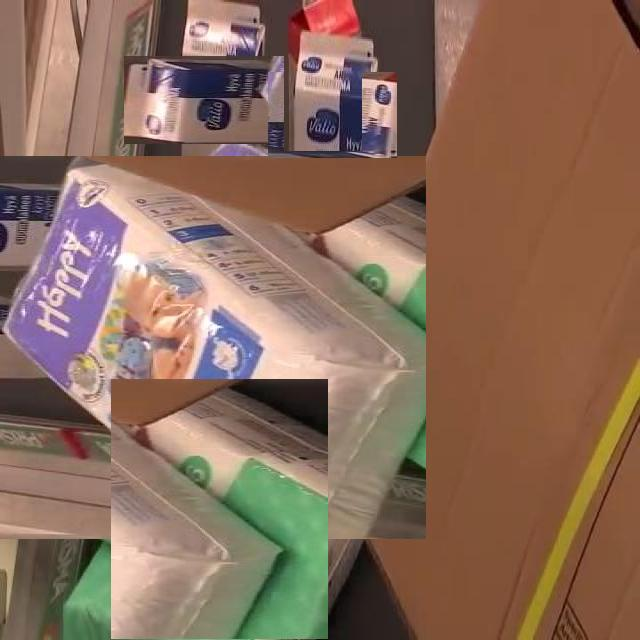beverage: (284, 0, 362, 151)
food-box: (10, 145, 415, 550), (89, 400, 350, 640), (152, 27, 296, 172), (278, 62, 386, 170)
